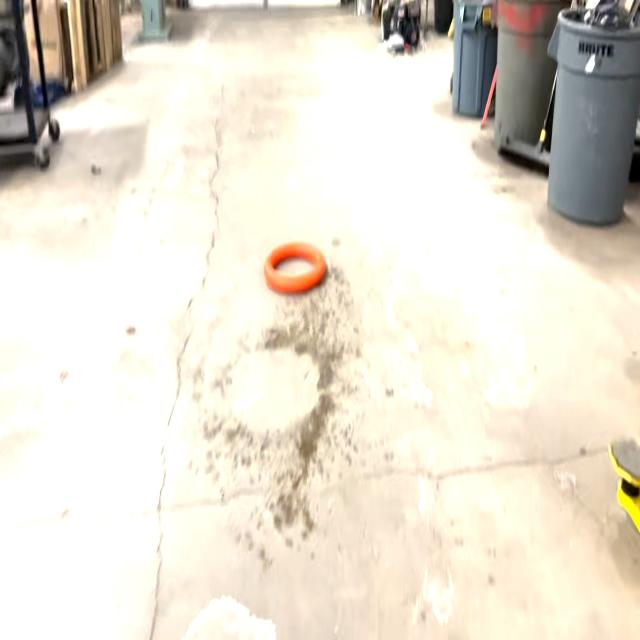note: (261, 237, 330, 294)
